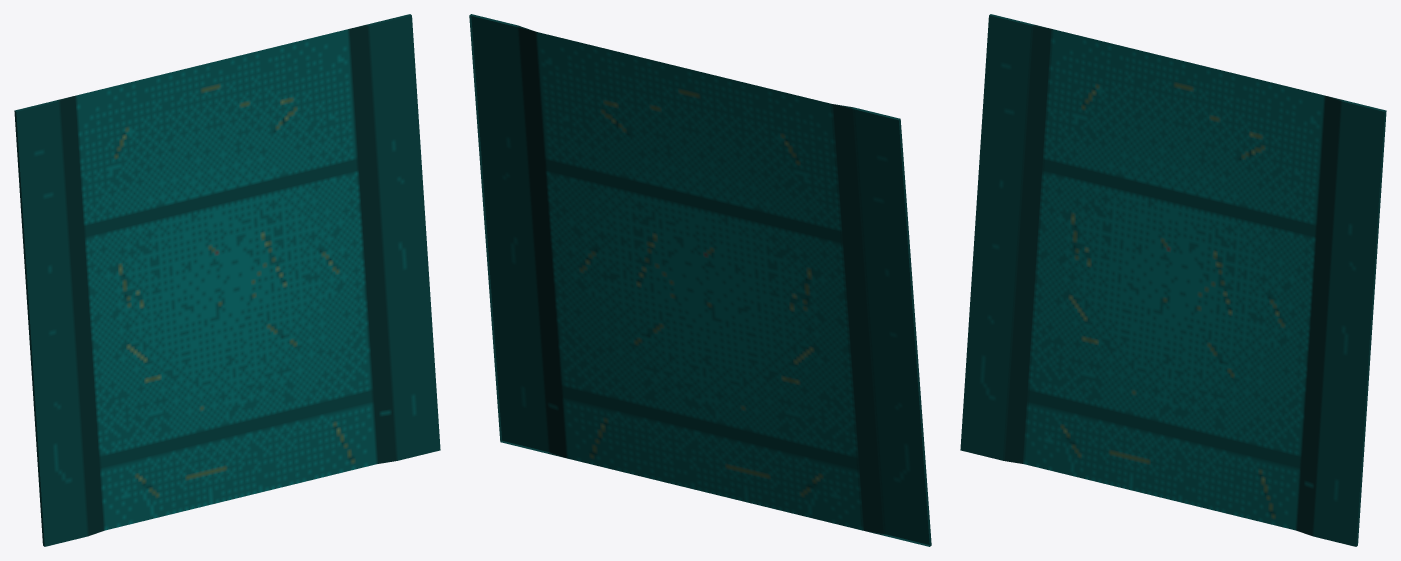
File: med1_9d_ofs32_90.fbx
3 views of the same model, side by side, from view 1: azimuth 30°, elevation 25°; view 2: azimuth 150°, elevation 25°; view 3: azimuth 330°, elevation 25° (orthographic). The views are drawn at different scales.
Parts seen in each view (by area): view 1: med1_9d_mesh_ofs32_90; view 2: med1_9d_mesh_ofs32_90; view 3: med1_9d_mesh_ofs32_90.
Part boxes in pixels (<box>): med1_9d_mesh_ofs32_90: <box>14,14,440,546</box>; med1_9d_mesh_ofs32_90: <box>469,14,931,546</box>; med1_9d_mesh_ofs32_90: <box>960,14,1386,546</box>.
Size of the model in its own units: 256 by 256 by 34.
